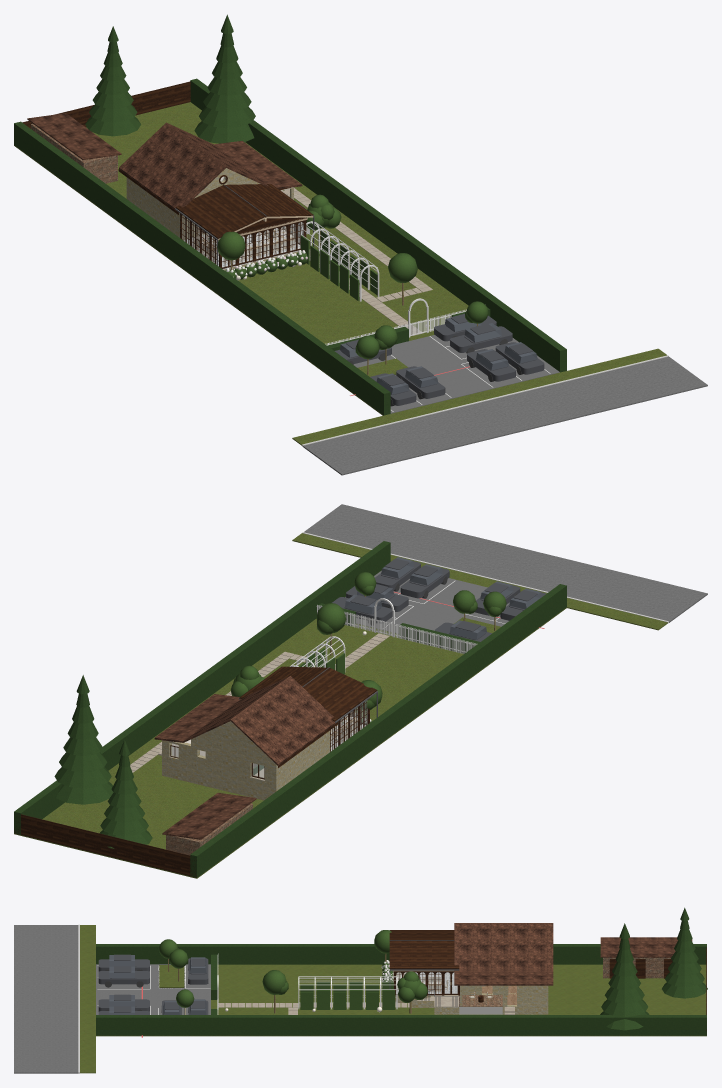
The model's file is vikendica-lite.glb.
The picture shows the model from 3 angles, top to bottom: view 1: azimuth 30°, elevation 25°; view 2: azimuth 150°, elevation 25°; view 3: azimuth 270°, elevation 25°; orthographic projection. The views are drawn at different scales.
Visible parts, largest first — view 1: Geom3D (×24); view 2: Geom3D (×24); view 3: Geom3D (×31).
Boxes of the visible parts, bbox=[...] form: Geom3D (×24): bbox=[14, 14, 707, 475]; Geom3D (×24): bbox=[14, 504, 707, 878]; Geom3D (×31): bbox=[14, 907, 707, 1073].
Bounding box in the file's own units: 32 × 11.4 × 63.59.
43 materials, 21 textured.
